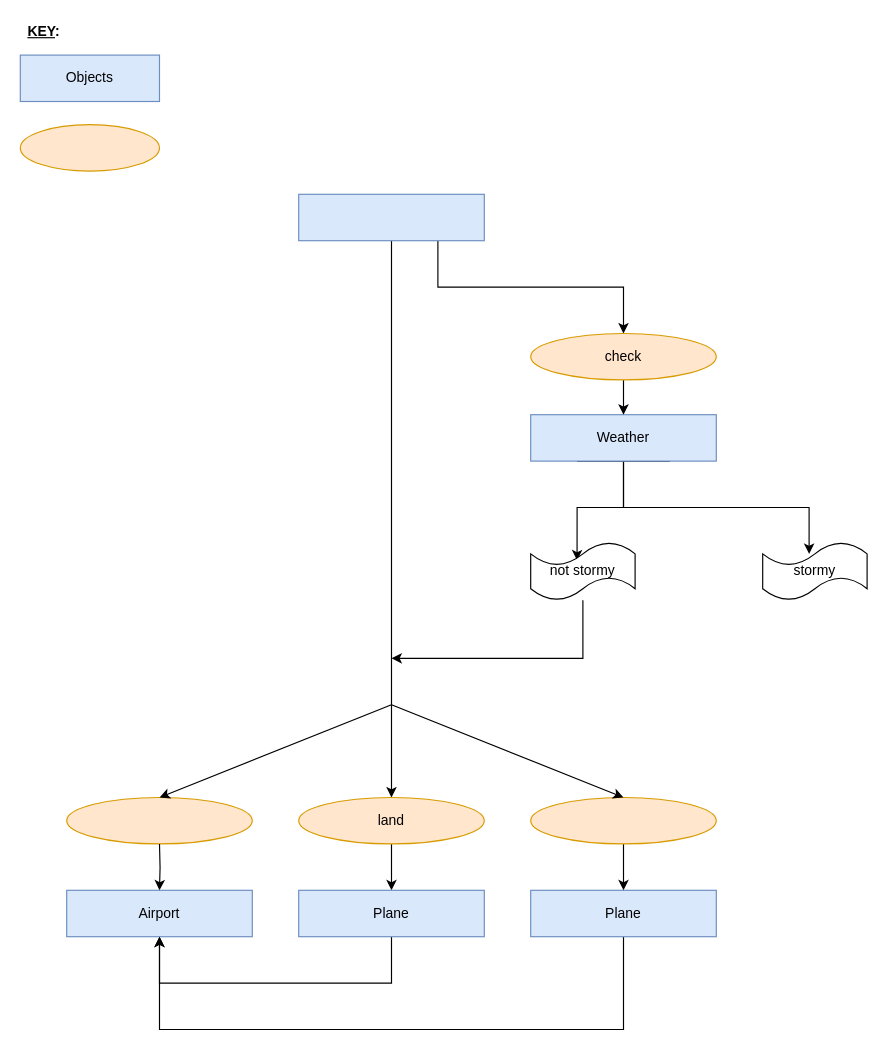
Image size: 887x1059. Some labels were removed from this diagram. Here are the shapes that lost their labels. From the top down, the centre of each, then its label:
the point at 89,147: commands
the point at 391,217: Air Traffic Controller
the point at 159,820: Is plane at airport?
the point at 623,820: take off
